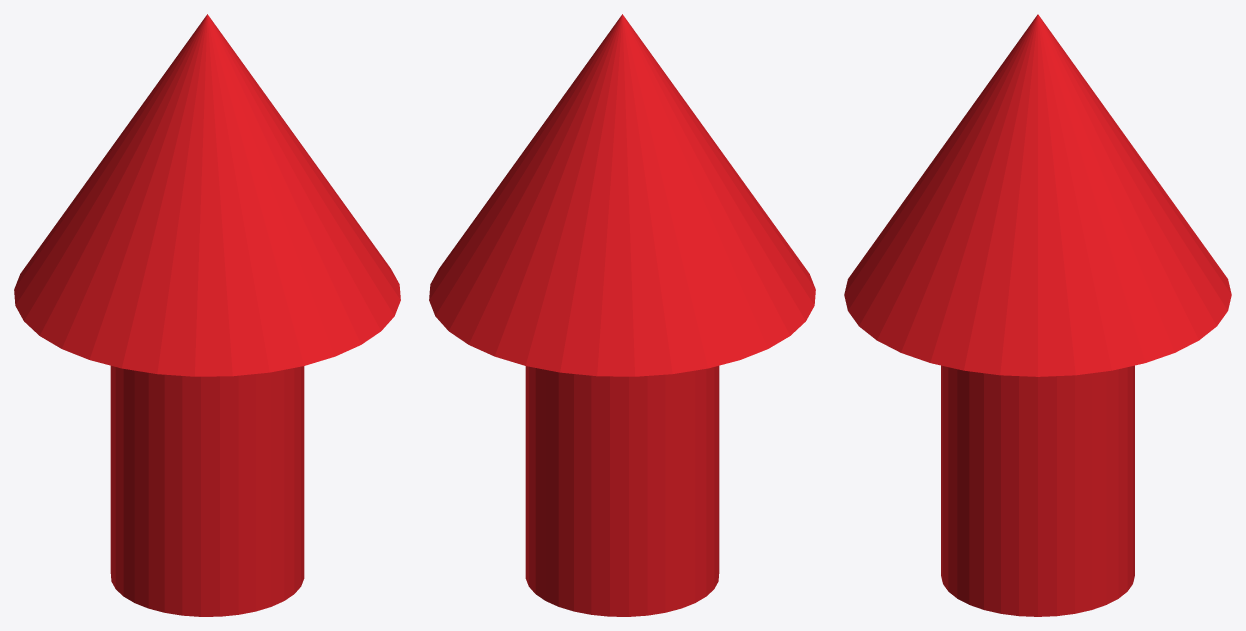
File: cursor.fbx
3 renders of one model, left to right at view 1: azimuth 30°, elevation 25°; view 2: azimuth 150°, elevation 25°; view 3: azimuth 270°, elevation 25°, orthographic.
Visible parts, largest first — view 1: Cursor; view 2: Cursor; view 3: Cursor.
Part boxes in pixels (bbox=[...]): Cursor: bbox=[14, 14, 400, 616]; Cursor: bbox=[429, 14, 815, 616]; Cursor: bbox=[844, 14, 1231, 616].
Size of the model in its own units: 0.02 by 0.032 by 0.02.
1 material, 1 textured.
